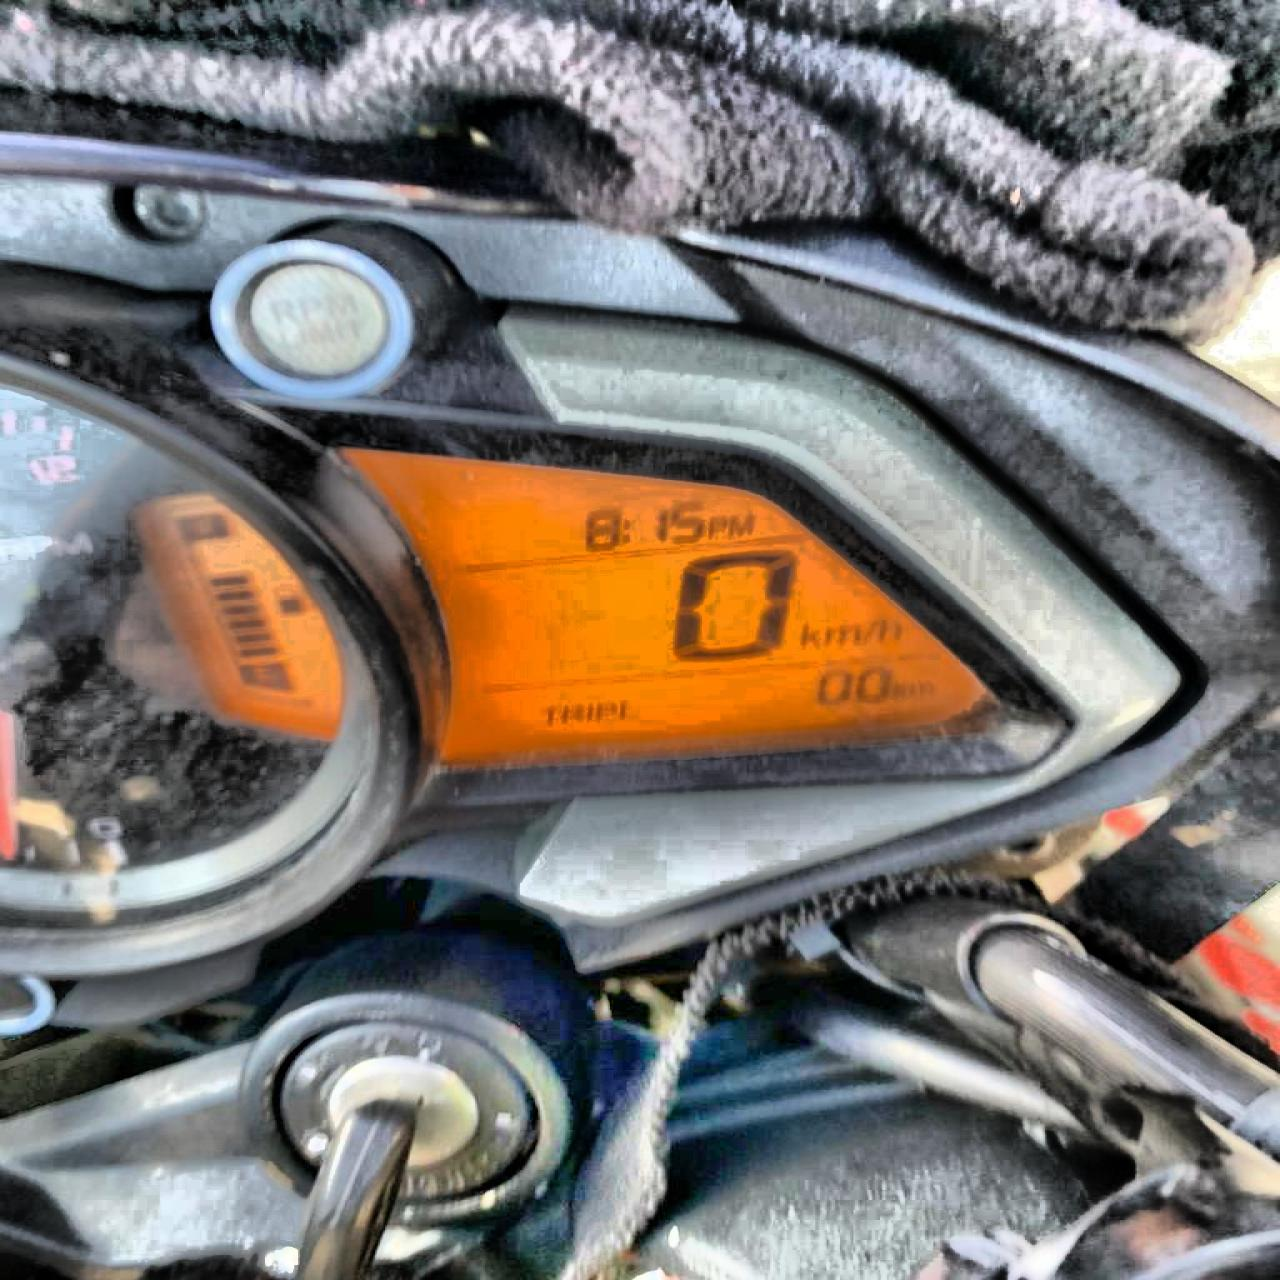0: (665, 551, 785, 655), (813, 665, 850, 704), (855, 665, 890, 704)
1: (654, 506, 668, 543), (619, 699, 628, 720)
5: (672, 498, 706, 543)
8: (581, 505, 620, 550)
X: (824, 622, 858, 645), (878, 617, 904, 641), (797, 619, 821, 646), (892, 676, 915, 702), (914, 676, 938, 701), (594, 699, 618, 723), (858, 618, 878, 645), (560, 701, 584, 723), (707, 515, 727, 539), (728, 515, 751, 535), (539, 700, 558, 724), (585, 700, 595, 724), (621, 517, 631, 544)
odometer: (115, 436, 1008, 769)
